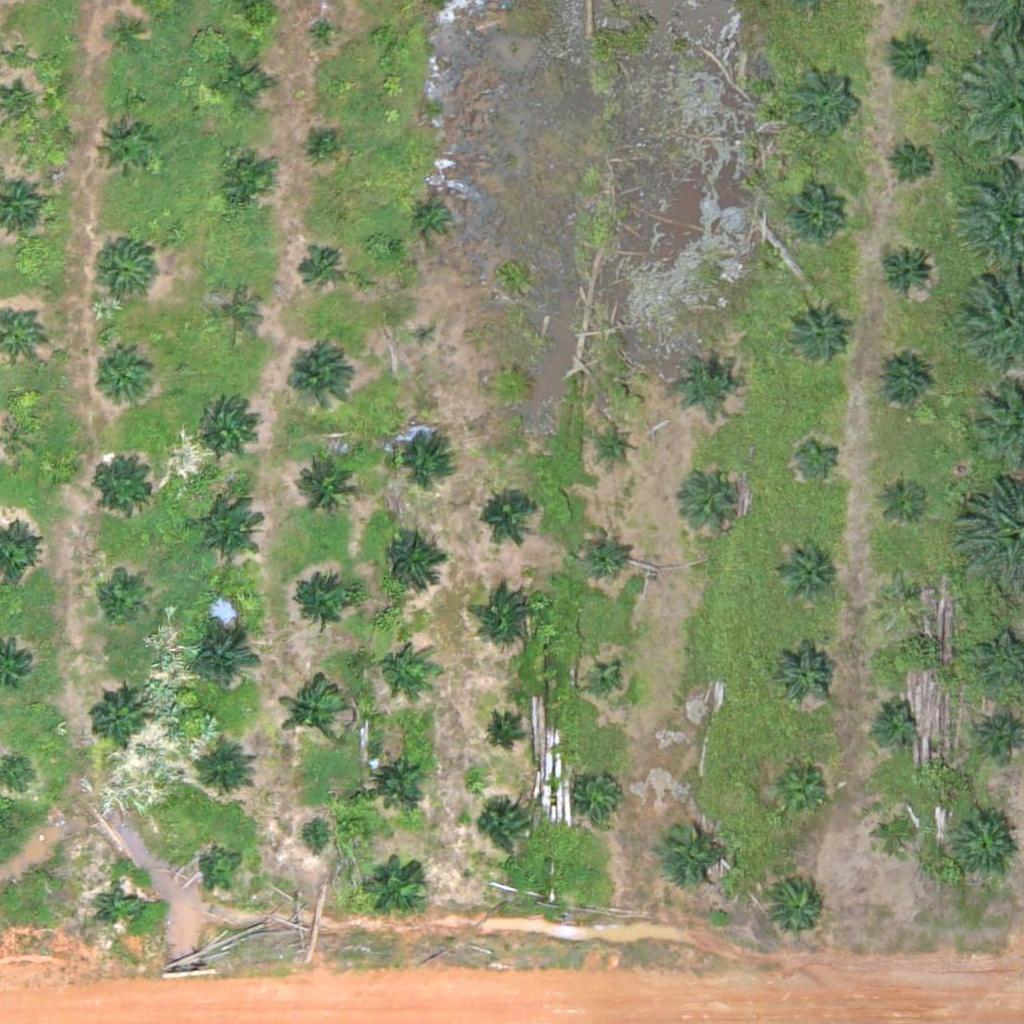Kelapa_Sawit: (286, 574, 361, 650), (189, 493, 264, 569), (282, 346, 357, 422), (290, 448, 365, 524), (657, 816, 732, 892), (278, 676, 353, 752), (187, 625, 262, 700), (789, 63, 864, 138), (946, 806, 1021, 881), (687, 467, 750, 530), (676, 351, 739, 414), (391, 423, 454, 486), (368, 853, 431, 916), (195, 743, 258, 806), (367, 748, 430, 811), (87, 691, 150, 754), (785, 190, 848, 253), (774, 539, 837, 602), (774, 644, 837, 707), (767, 876, 830, 939), (767, 758, 830, 821), (875, 240, 938, 303), (477, 585, 539, 648), (476, 485, 538, 548), (94, 455, 156, 518), (380, 531, 443, 593), (197, 397, 259, 460), (94, 119, 156, 182), (214, 152, 276, 215), (92, 239, 154, 302), (96, 350, 158, 413), (786, 301, 848, 364), (872, 352, 934, 415), (213, 53, 275, 116), (878, 469, 928, 520), (877, 566, 927, 617), (867, 695, 917, 746), (793, 431, 843, 482), (200, 841, 250, 892), (94, 883, 144, 934), (883, 31, 933, 82), (295, 245, 345, 296), (376, 640, 426, 690), (95, 573, 145, 623), (477, 803, 527, 853), (577, 770, 627, 820), (871, 811, 921, 861), (579, 529, 629, 579), (210, 290, 260, 340), (887, 139, 937, 189), (409, 193, 459, 243), (596, 427, 634, 465), (586, 665, 624, 703), (295, 819, 333, 857), (493, 367, 531, 405), (307, 15, 345, 53), (110, 20, 148, 58), (481, 716, 518, 754), (309, 131, 334, 157), (413, 321, 438, 346)
